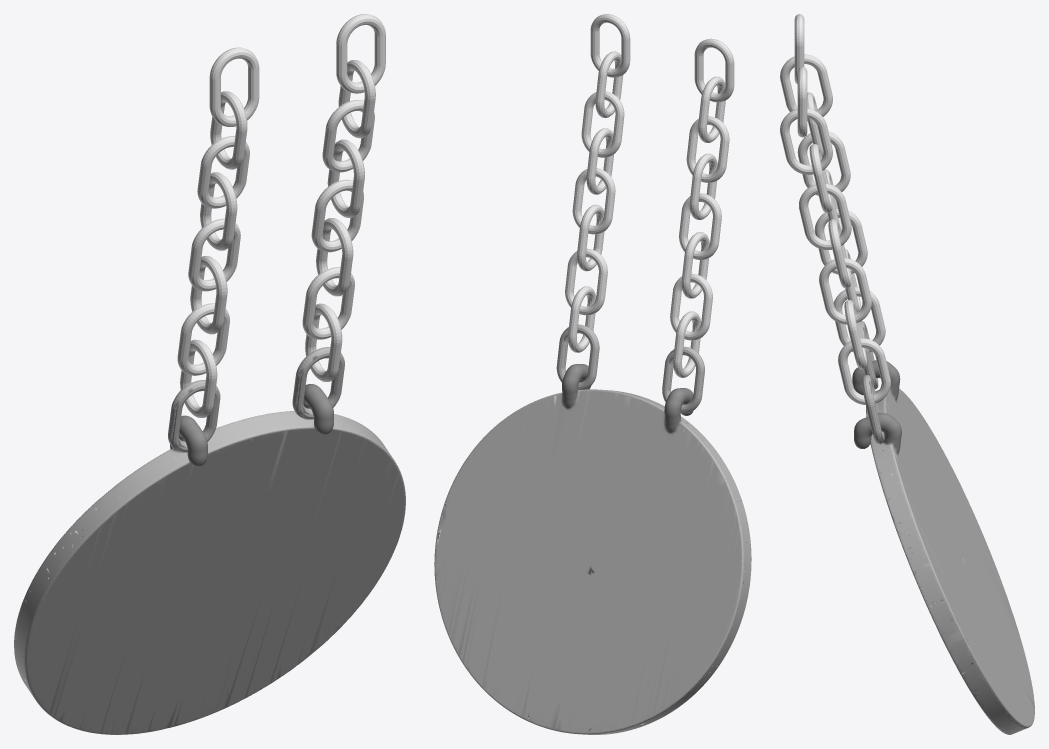
File: sign-animation-combined-transformed.glb
3 views of the same model, side by side, from view 1: azimuth 30°, elevation 25°; view 2: azimuth 150°, elevation 25°; view 3: azimuth 270°, elevation 25° (orthographic). The views are drawn at different scales.
Visible parts, largest first — view 1: Torus.074, Torus.072, Torus.056, Torus.062, Torus.059, Torus.051, Torus.001, Torus.063, Torus.070, Torus.002, Torus.071, Torus.053 (+4 smaller); view 2: Torus.074, Torus.072, Torus.070, Torus.002, Torus.062, Torus.059, Torus.051, Torus.056, Torus.058, Torus.050, Torus.061, Torus.053 (+4 smaller); view 3: Torus.074, Torus.061, Torus.071, Torus.063, Torus.001, Torus.072, Torus.050, Torus.053, Torus.058, Torus.060, Torus.062, Torus.070 (+1 smaller).
Part boxes in pixels (bbox=[...]): Torus.074: bbox=[14, 347, 405, 734]; Torus.072: bbox=[209, 14, 385, 126]; Torus.056: bbox=[188, 218, 240, 291]; Torus.062: bbox=[302, 267, 354, 339]; Torus.059: bbox=[177, 303, 229, 375]; Torus.051: bbox=[197, 136, 249, 208]; Torus.001: bbox=[327, 139, 364, 217]; Torus.063: bbox=[316, 218, 353, 296]; Torus.070: bbox=[322, 100, 374, 172]; Torus.002: bbox=[311, 179, 363, 252]; Torus.071: bbox=[338, 60, 375, 138]; Torus.053: bbox=[200, 172, 237, 250]; Torus.074: bbox=[434, 324, 751, 734]; Torus.072: bbox=[590, 14, 734, 102]; Torus.070: bbox=[581, 91, 624, 157]; Torus.002: bbox=[572, 168, 615, 234]; Torus.062: bbox=[565, 248, 607, 315]; Torus.059: bbox=[670, 273, 712, 340]; Torus.051: bbox=[686, 116, 729, 182]; Torus.056: bbox=[679, 193, 721, 259]; Torus.058: bbox=[681, 232, 709, 298]; Torus.050: bbox=[698, 76, 725, 142]; Torus.061: bbox=[568, 286, 596, 352]; Torus.053: bbox=[689, 153, 717, 219]; Torus.074: bbox=[852, 321, 1034, 734]; Torus.061: bbox=[838, 338, 890, 404]; Torus.071: bbox=[780, 108, 832, 174]; Torus.063: bbox=[819, 258, 871, 324]; Torus.001: bbox=[799, 183, 851, 249]; Torus.072: bbox=[794, 14, 807, 137]; Torus.050: bbox=[780, 54, 832, 120]; Torus.053: bbox=[797, 131, 850, 195]; Torus.058: bbox=[814, 208, 867, 274]; Torus.060: bbox=[833, 287, 885, 352]; Torus.062: bbox=[844, 300, 866, 369]; Torus.070: bbox=[809, 144, 832, 213].
Bounding box in the file's own units: 7.39 × 14.88 × 5.1.
1 material, 1 textured.
